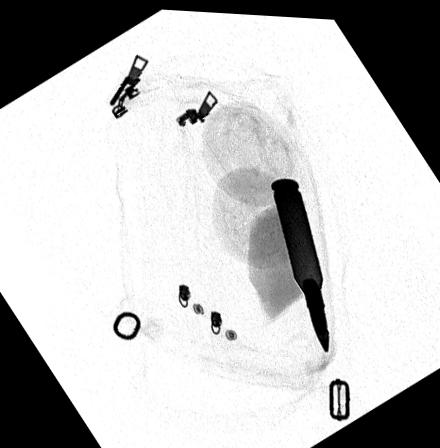Bullet: (269, 172, 330, 351)
